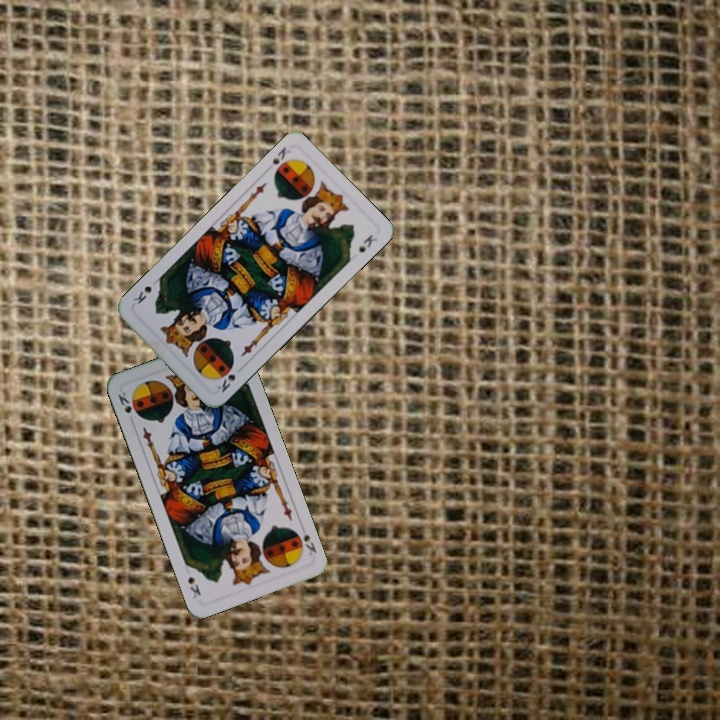SK: (212, 362, 238, 395), (268, 143, 293, 167), (299, 529, 319, 558), (114, 388, 134, 416)
